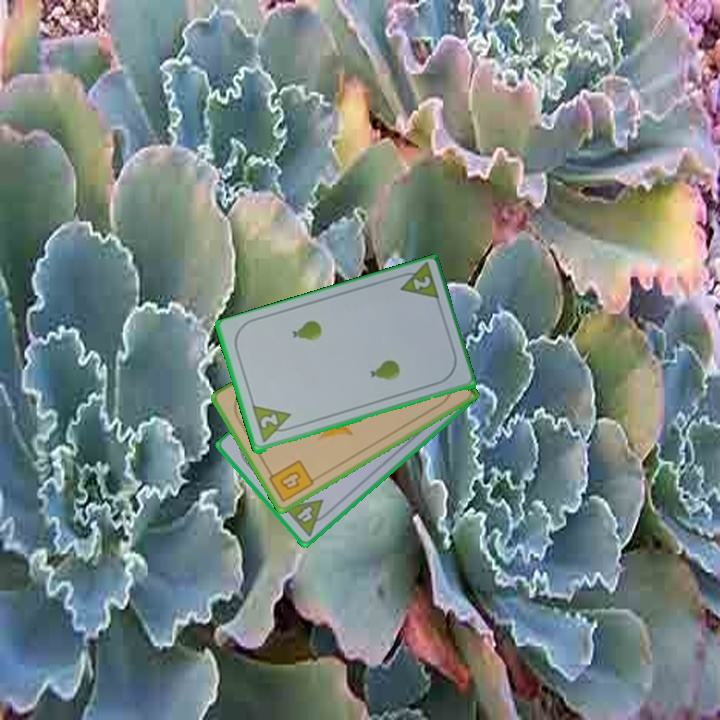2p: (392, 261, 442, 305), (256, 411, 281, 432)
4b: (263, 456, 317, 505)
4p: (280, 496, 335, 539)
